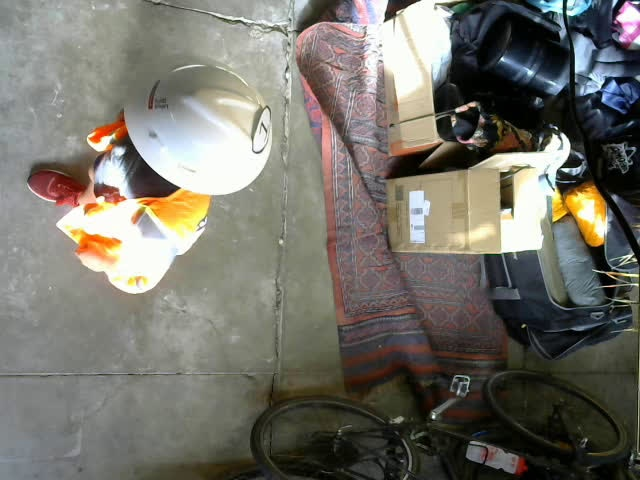one: (251, 107, 270, 155)
